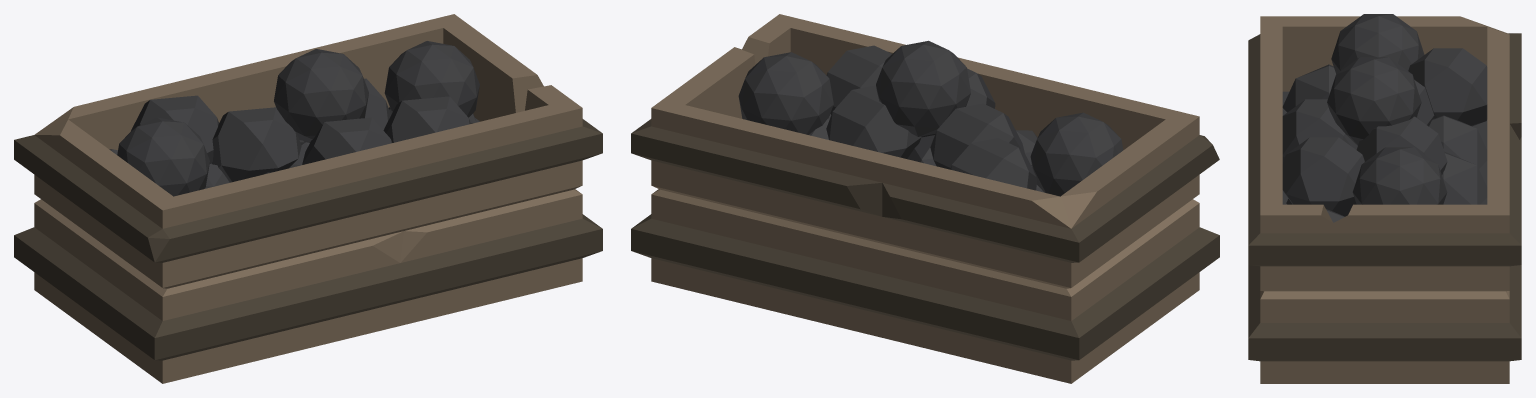
The model's file is SM_Prop_Crate_Cannonballs_01.glb.
The picture shows the model from 3 angles, left to right: view 1: azimuth 30°, elevation 25°; view 2: azimuth 150°, elevation 25°; view 3: azimuth 270°, elevation 25°; orthographic projection. The views are drawn at different scales.
Parts seen in each view (by area): view 1: SM_Prop_Crate_Cannonballs_01; view 2: SM_Prop_Crate_Cannonballs_01; view 3: SM_Prop_Crate_Cannonballs_01.
Part boxes in pixels (x1=…): SM_Prop_Crate_Cannonballs_01: x1=14, y1=14, x2=602, y2=383; SM_Prop_Crate_Cannonballs_01: x1=631, y1=14, x2=1219, y2=383; SM_Prop_Crate_Cannonballs_01: x1=1248, y1=14, x2=1521, y2=383.
Bounding box in the file's own units: 0.00954 × 0.00479 × 0.00519.
